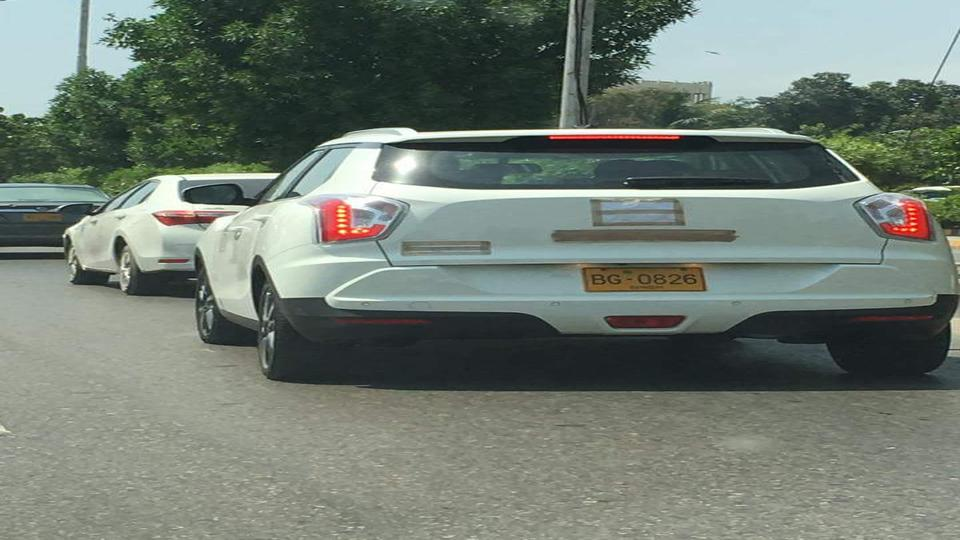NumberPlate: (576, 267, 715, 295)
